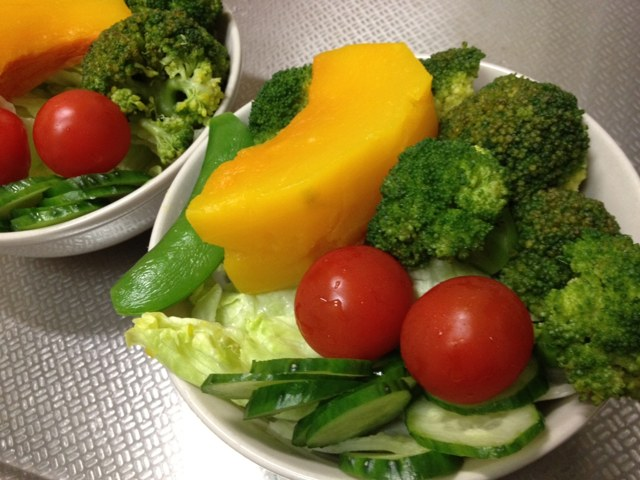tomato: (399, 273, 535, 404), (295, 243, 416, 358), (33, 89, 129, 177), (0, 107, 30, 183)
